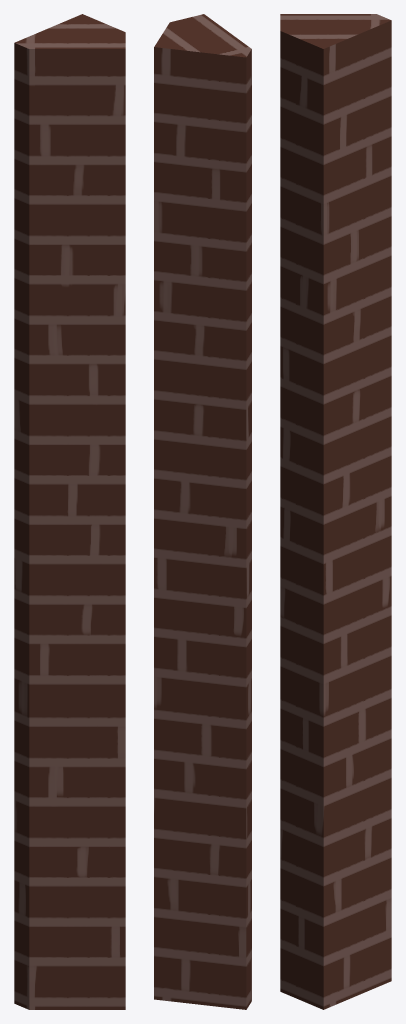
The model's file is wall6_angle_45.FBX.
3 renders of one model, left to right at view 1: azimuth 90°, elevation 25°; view 2: azimuth 210°, elevation 25°; view 3: azimuth 270°, elevation 25°, orthographic.
Visible parts, largest first — view 1: wall6_angle_45; view 2: wall6_angle_45; view 3: wall6_angle_45.
Part boxes in pixels (left/top/right/bottom): wall6_angle_45: left=14, top=14, right=125, bottom=1009; wall6_angle_45: left=154, top=14, right=251, bottom=1009; wall6_angle_45: left=280, top=14, right=391, bottom=1009.
Bounding box in the file's own units: 43.13 × 550 × 57.78.
1 material, 1 textured.
